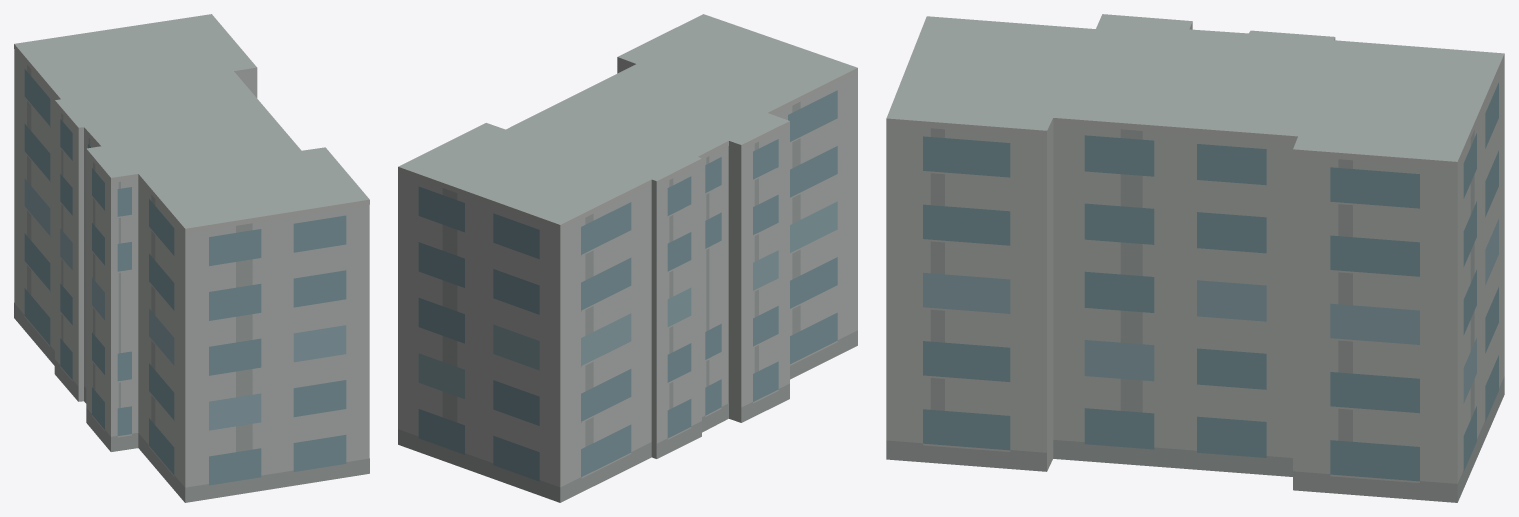
The model's file is survey-upis-32702616.glb.
The picture shows the model from 3 angles, left to right: view 1: azimuth 30°, elevation 25°; view 2: azimuth 150°, elevation 25°; view 3: azimuth 270°, elevation 25°; orthographic projection. The views are drawn at different scales.
Visible parts, largest first — view 1: survey-upis-32702616.tmp; view 2: survey-upis-32702616.tmp; view 3: survey-upis-32702616.tmp.
Part boxes in pixels (x1,y1,x2,y2): survey-upis-32702616.tmp: (14, 14, 369, 502); survey-upis-32702616.tmp: (398, 14, 857, 502); survey-upis-32702616.tmp: (886, 14, 1504, 502).
Size of the model in its own units: 12.1 by 13 by 21.37.
